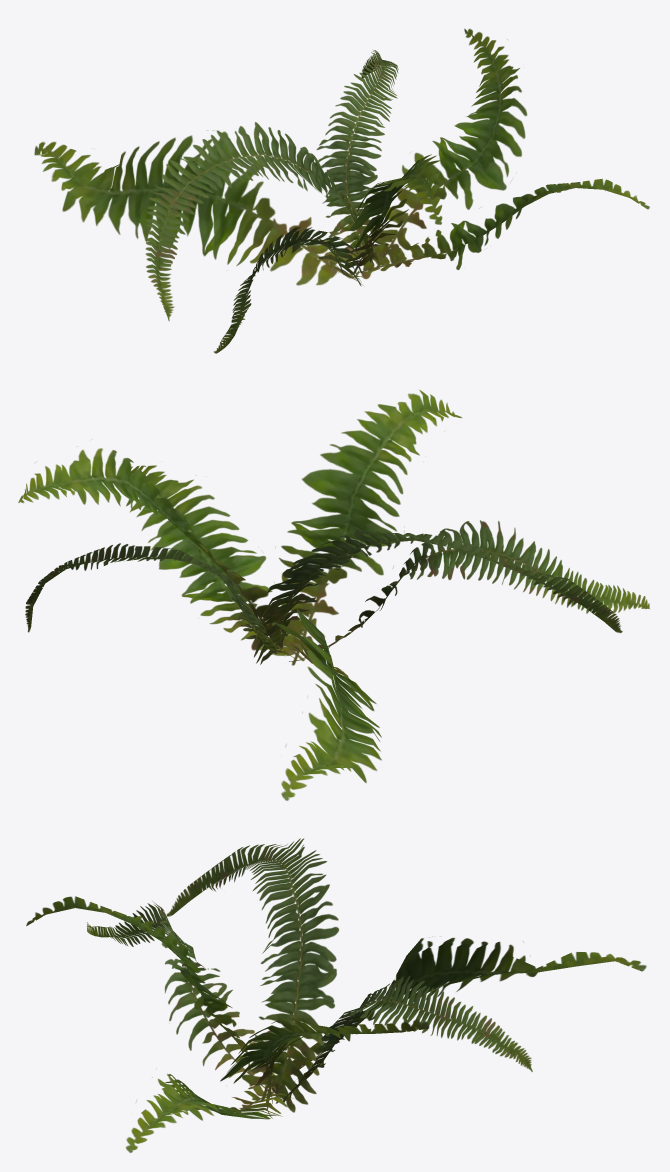
File: fern_02_d.glb
3 views of the same model, one above another, from view 1: azimuth 30°, elevation 25°; view 2: azimuth 150°, elevation 25°; view 3: azimuth 270°, elevation 25° (orthographic). The views are drawn at different scales.
Parts seen in each view (by area): view 1: fern_02_d; view 2: fern_02_d; view 3: fern_02_d.
Boxes of the visible parts, box(x1,y1,x2,y2) form: fern_02_d: box(34, 28, 649, 353); fern_02_d: box(18, 389, 649, 800); fern_02_d: box(26, 838, 646, 1152).
Size of the model in its own units: 0.5728 by 0.2131 by 0.5933.
1 material, 1 textured.
